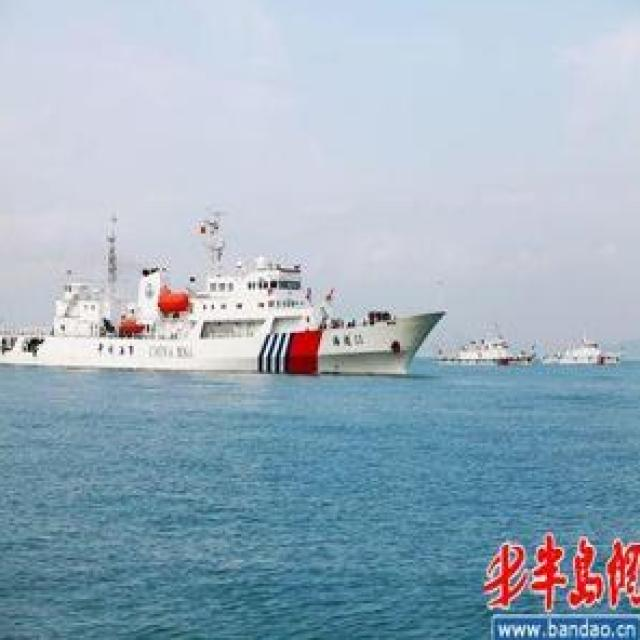navalvessels: (0, 222, 430, 380), (440, 317, 537, 369), (543, 326, 617, 373)
